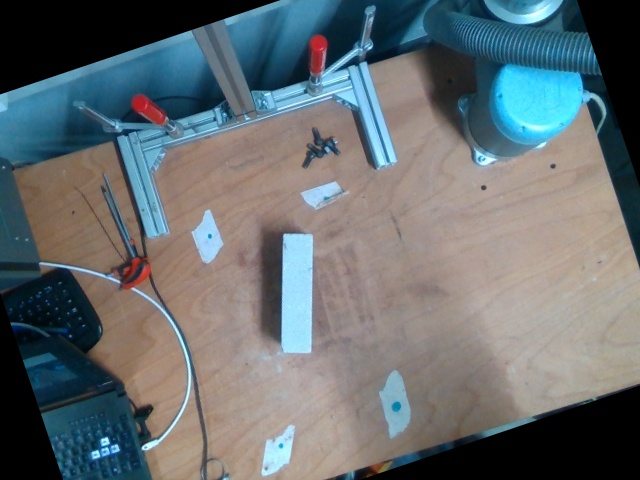brick-side: (282, 234, 312, 352)
